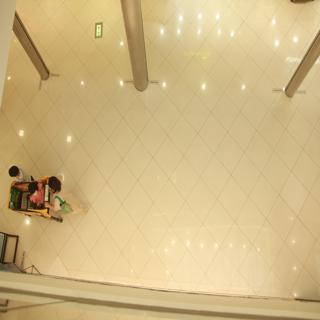person: (27, 166, 77, 231)
